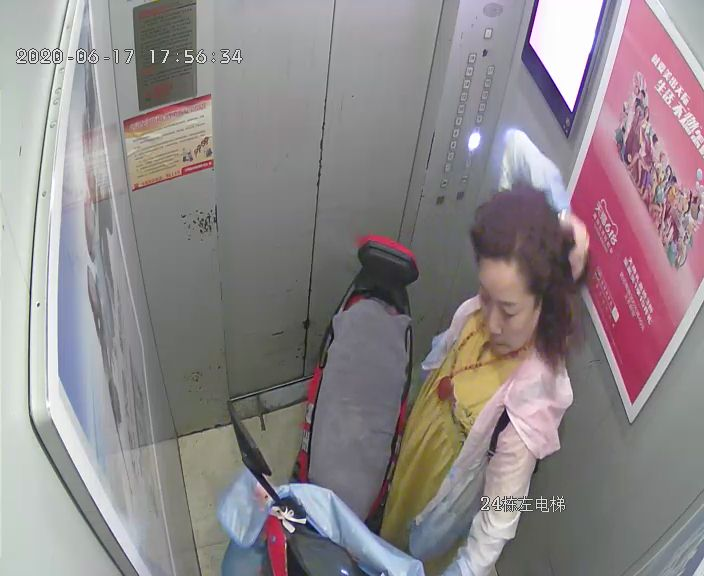Electric-bicycle: (228, 232, 419, 575)
